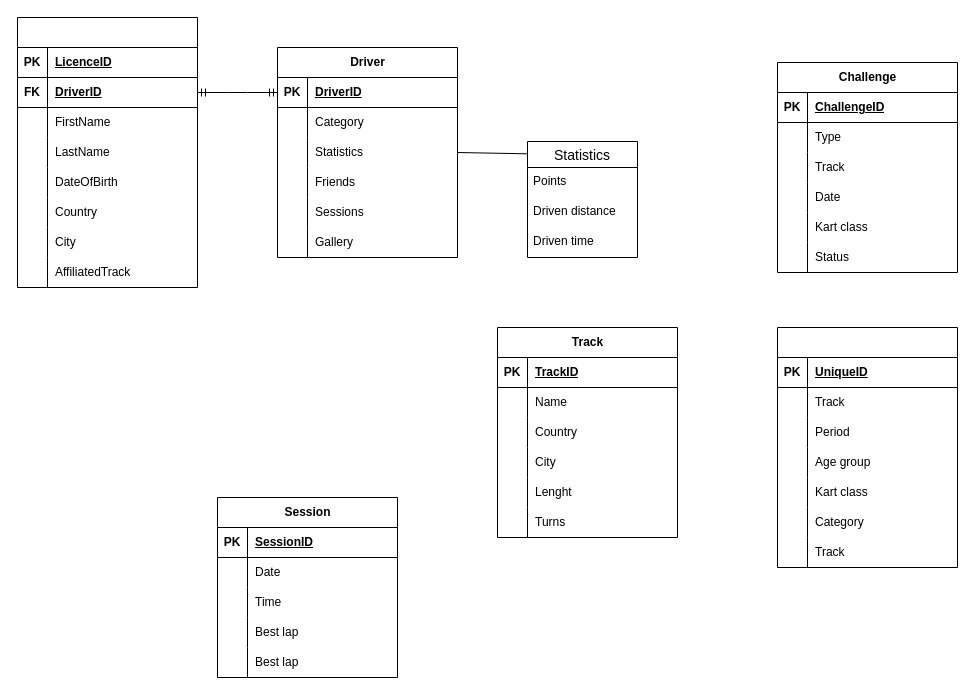
Image size: 975x695. Some labels were removed from this diagram. The shapes that lost their labels are listed below. From the top down, each one's box as (x1, y1, x2, y2) in pixels, then its label:
(16, 16, 198, 288): Racing licence
(776, 326, 958, 568): Ranking
